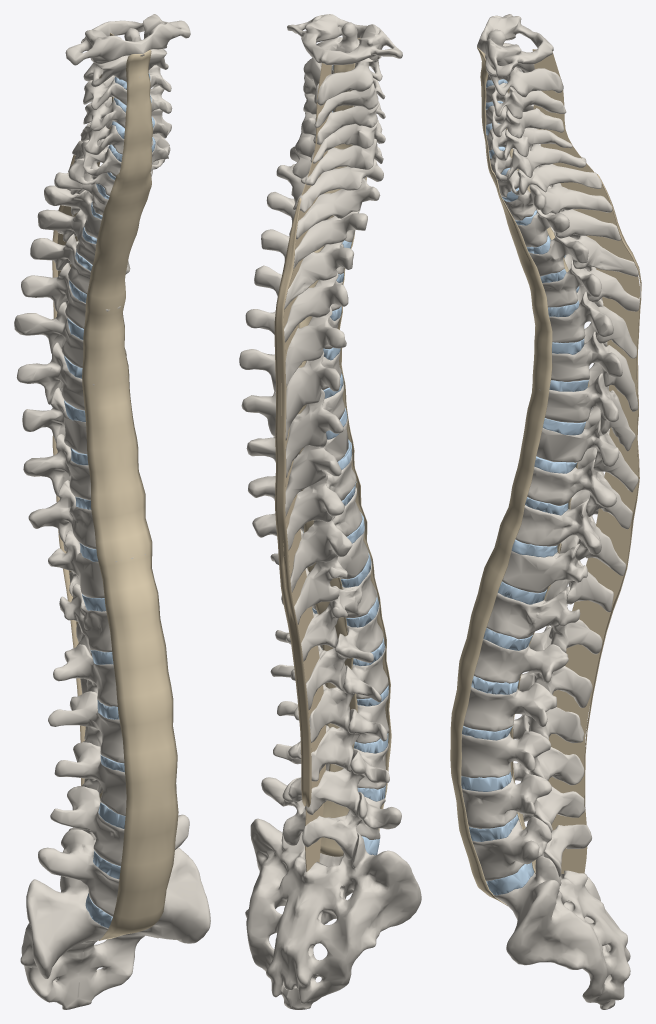
File: intervertebral-discs.glb
The picture shows the model from 3 angles, left to right: view 1: azimuth 30°, elevation 25°; view 2: azimuth 150°, elevation 25°; view 3: azimuth 270°, elevation 25°; orthographic projection. The views are drawn at different scales.
Visible parts, largest first — view 1: Anterior_longitudinal_ligament, Sacrum, Vertebra_L5, Atlas_(C1), Vertebra_L4, Vertebra_L2, Vertebra_L3, Vertebra_T10, Vertebra_L1, Vertebra_T9, Vertebra_T7, Vertebra_T6 (+15 smaller); view 2: Sacrum, Supraspinous_ligament, Vertebra_L5, Interspinous_ligaments, Vertebra_L4, Vertebra_T10, Vertebra_L3, Vertebra_T7, Vertebra_L2, Vertebra_T9, Atlas_(C1), Vertebra_T6 (+17 smaller); view 3: Interspinous_ligaments, Anterior_longitudinal_ligament, Sacrum, Vertebra_L3, Vertebra_L4, Vertebra_L2, Vertebra_L1, Vertebra_T12, Vertebra_L5, Vertebra_T10, Vertebra_T11, Vertebra_T9 (+26 smaller).
Part boxes in pixels (box(x1,y1,x2,y2)): Anterior_longitudinal_ligament: box(82, 50, 178, 940); Sacrum: box(20, 847, 210, 1009); Vertebra_L5: box(38, 814, 189, 916); Atlas_(C1): box(65, 14, 190, 65); Vertebra_L4: box(50, 784, 176, 866); Vertebra_L2: box(48, 691, 124, 763); Vertebra_L3: box(54, 742, 126, 815); Vertebra_T10: box(28, 480, 96, 551); Vertebra_L1: box(53, 644, 117, 706); Vertebra_T9: box(23, 434, 90, 500); Vertebra_T7: box(16, 342, 126, 410); Vertebra_T6: box(14, 302, 83, 368); Sacrum: box(245, 818, 421, 1009); Supraspinous_ligament: box(274, 198, 311, 807); Vertebra_L5: box(261, 777, 401, 859); Interspinous_ligaments: box(280, 63, 331, 871); Vertebra_L4: box(273, 741, 389, 815); Vertebra_T10: box(252, 486, 362, 592); Vertebra_L3: box(277, 690, 389, 781); Vertebra_T7: box(241, 383, 344, 477); Vertebra_L2: box(270, 645, 388, 742); Vertebra_T9: box(248, 455, 356, 550); Atlas_(C1): box(287, 14, 402, 64); Vertebra_T6: box(239, 349, 341, 440); Interspinous_ligaments: box(532, 49, 639, 873); Anterior_longitudinal_ligament: box(450, 47, 552, 905); Sacrum: box(494, 855, 630, 1009); Vertebra_L3: box(461, 714, 584, 785); Vertebra_L4: box(462, 762, 585, 832); Vertebra_L2: box(463, 672, 584, 743); Vertebra_L1: box(474, 626, 592, 707); Vertebra_T12: box(486, 580, 602, 654); Vertebra_L5: box(472, 814, 591, 881); Vertebra_T10: box(515, 490, 625, 575); Vertebra_T11: box(497, 535, 613, 612); Vertebra_T9: box(527, 447, 632, 529).
Size of the model in its own units: 12.29 by 68.7 by 12.21.
